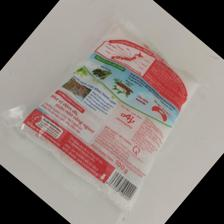Ajinomoto: (19, 29, 196, 205)
